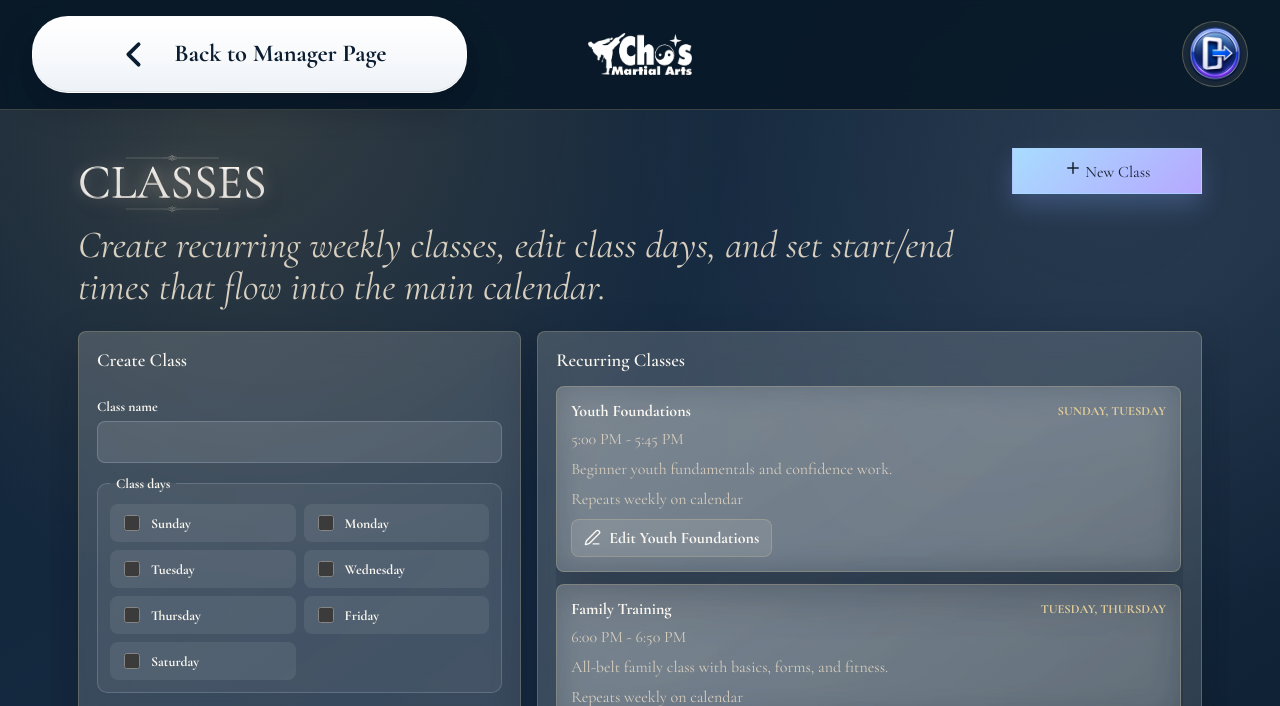
post-login operations app › lets managers choose class title color and disable class calendar recurrence
Type "Drop In Clinic" into the field labelled "Class name".
click(300, 442); type("Drop In Clinic")  # box [97,421,502,463]
Click the checkbox labelled "Sunday".
click(132, 523)  # box [124,515,140,531]
(page scrolled)
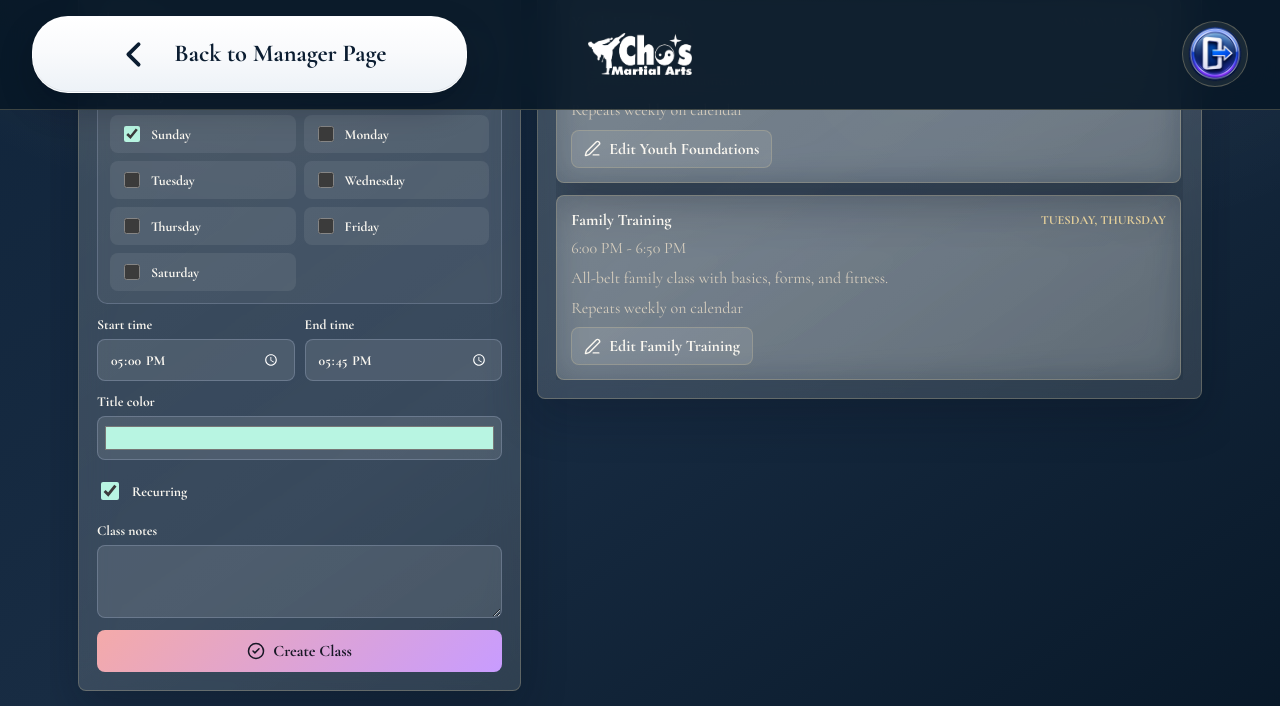
Replace the text in the time field labelled "Start time" with "15:00" at (196, 360), box [97,339,295,381]
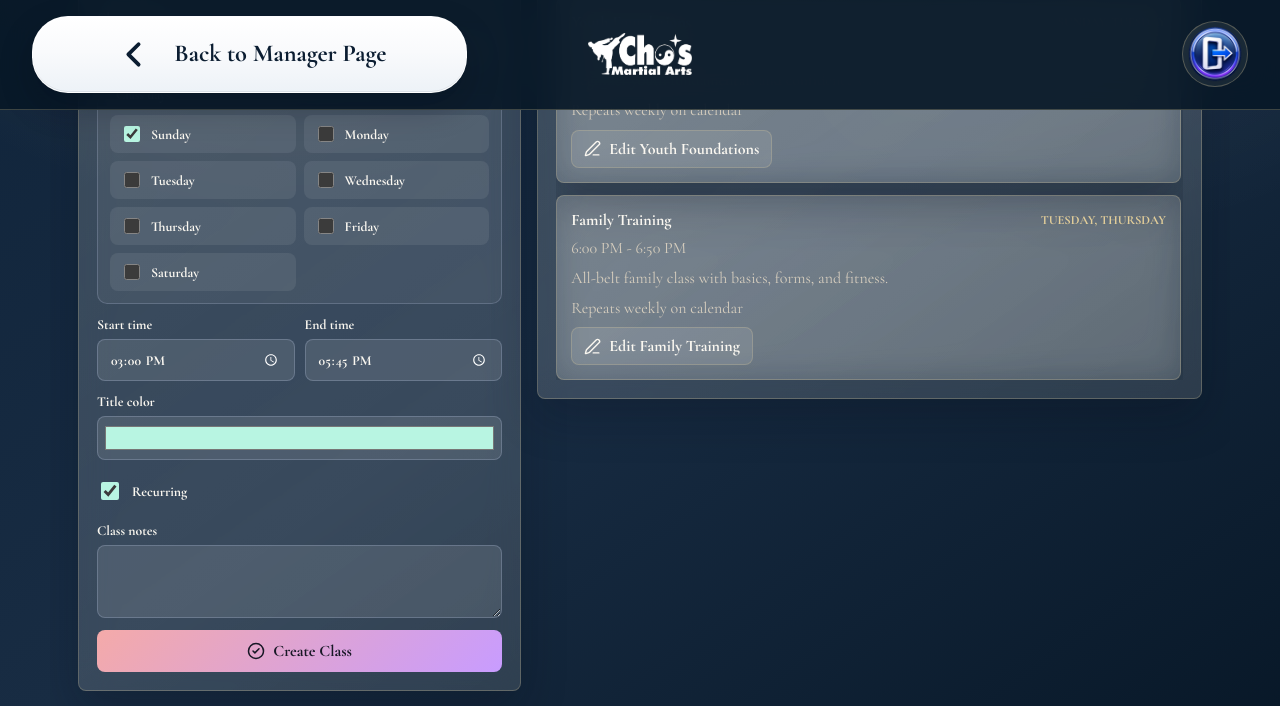
Replace the text in the time field labelled "End time" with "15:45" at (403, 360), box [305,339,502,381]
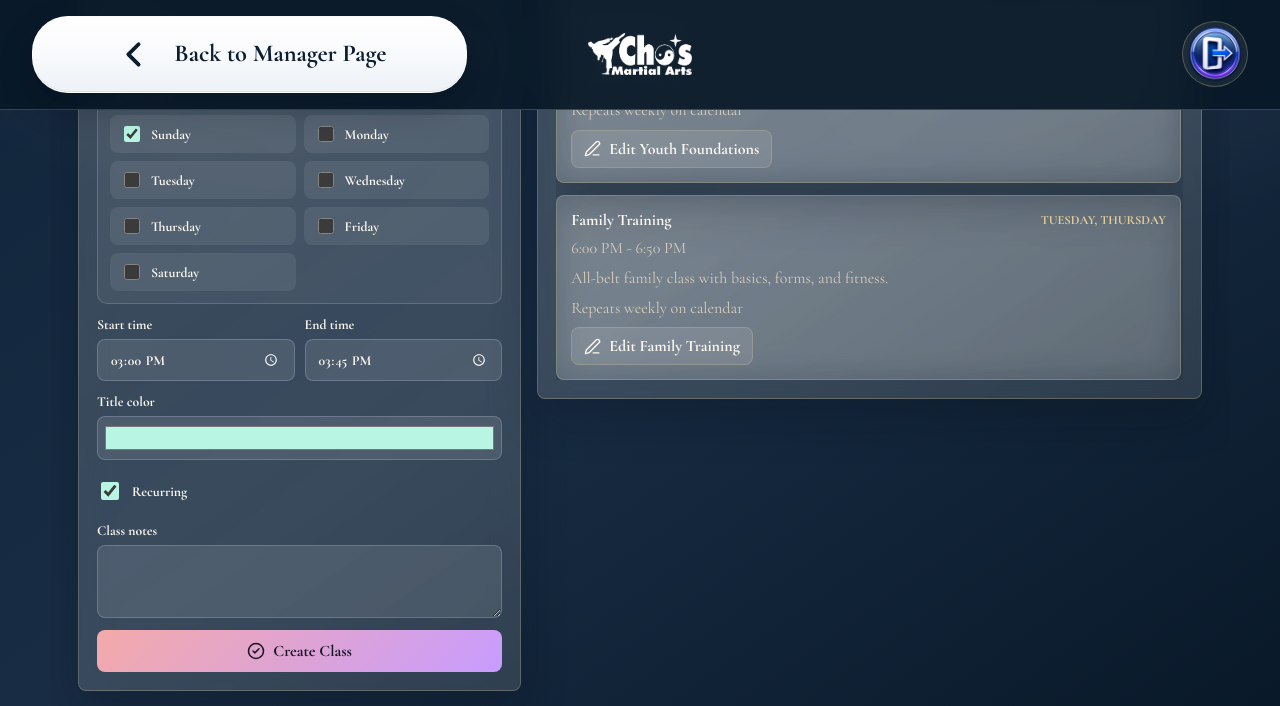
Type "#f9a8d4" into the colour field labelled "Title color".
click(300, 438); type("#f9a8d4")  # box [97,416,502,460]
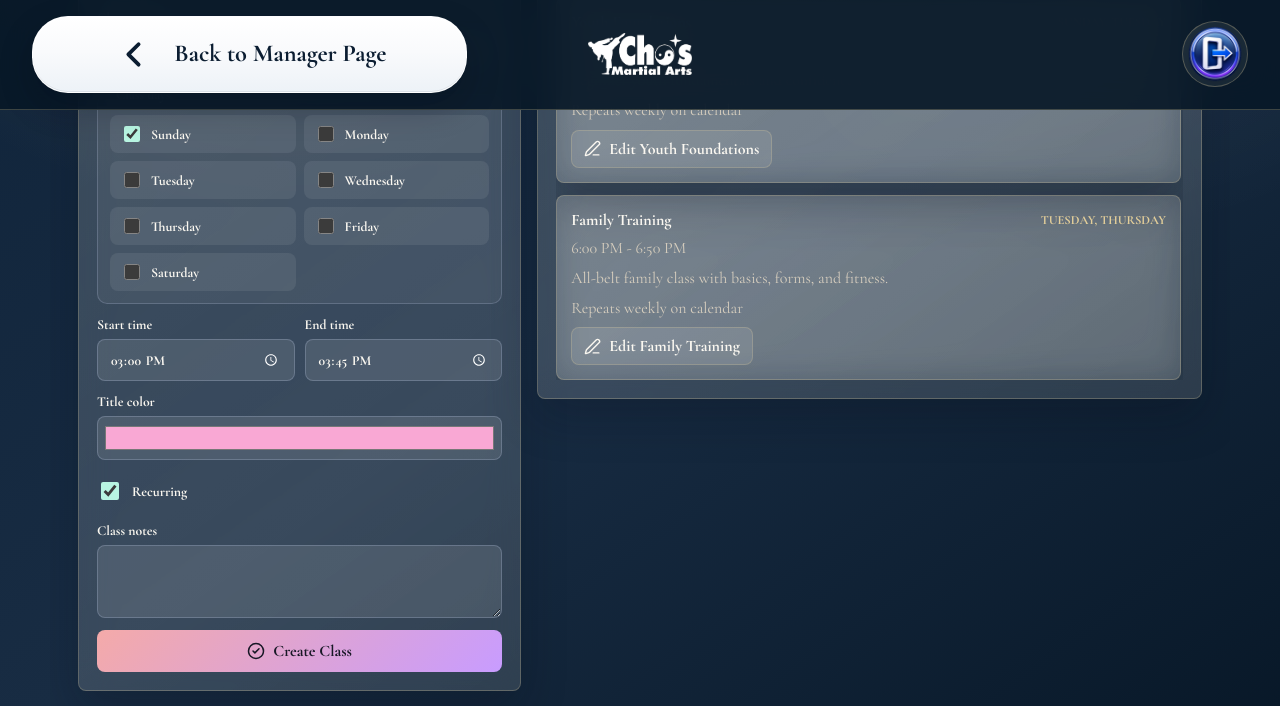
Click the checkbox labelled "Recurring".
click(110, 492)  # box [101,482,119,500]
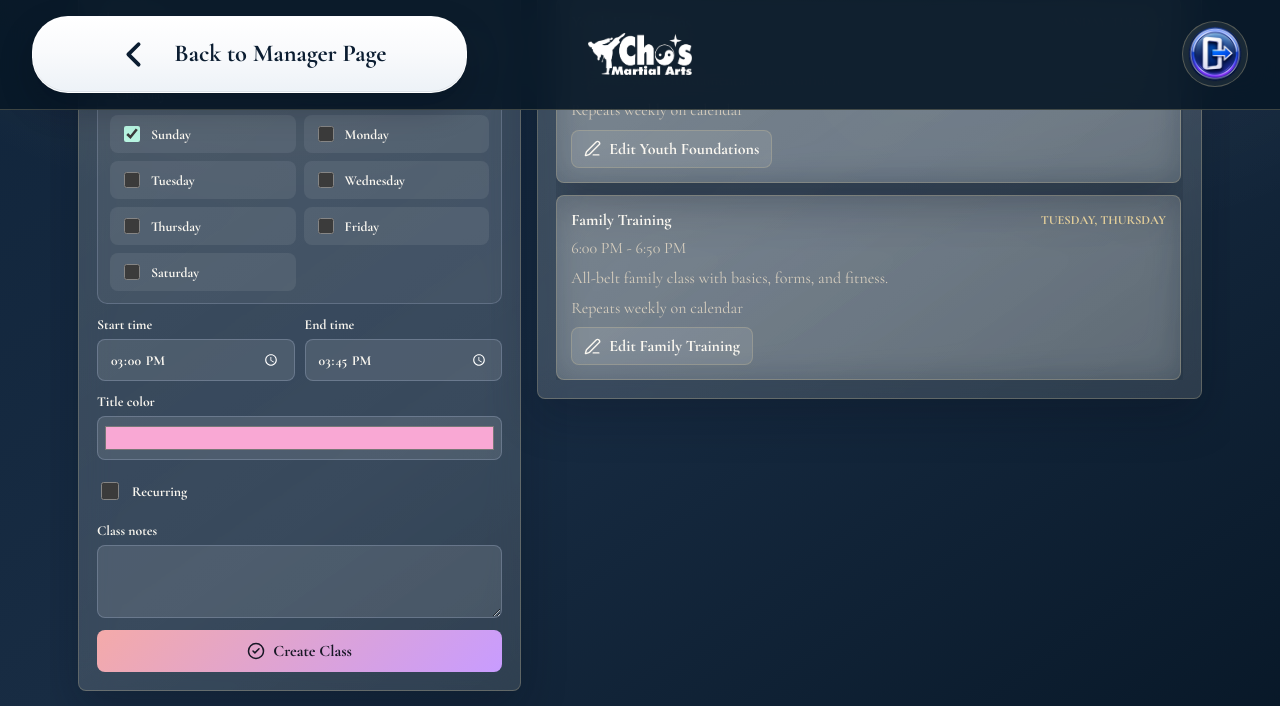
Click the button "Create Class".
click(300, 652)  # box [97,630,502,672]
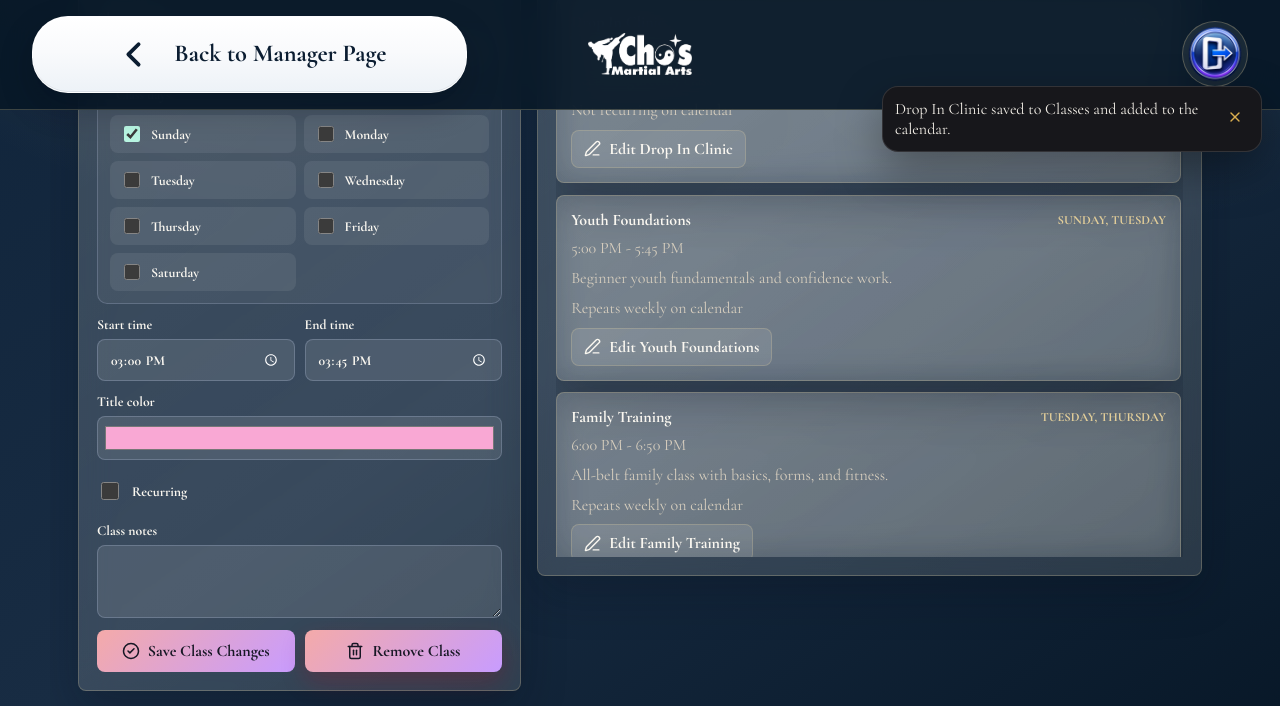
Expected: the text "Not recurring on calendar" is shown, [571,100,734,120]
